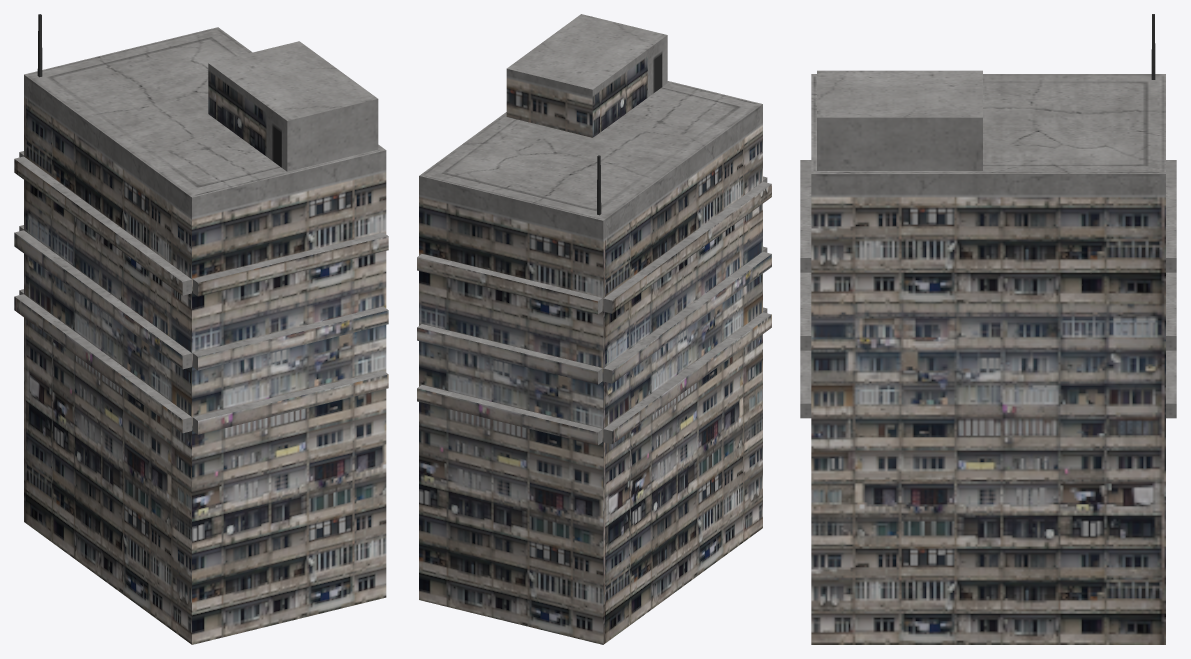
File: HH_Building_Background_01.fbx
3 views of the same model, side by side, from view 1: azimuth 30°, elevation 25°; view 2: azimuth 150°, elevation 25°; view 3: azimuth 270°, elevation 25° (orthographic). The views are drawn at different scales.
Visible parts, largest first — view 1: HH_Building_Background_01; view 2: HH_Building_Background_01; view 3: HH_Building_Background_01.
Part boxes in pixels (box(x1,y1,x2,y2)): HH_Building_Background_01: box(14, 14, 388, 644); HH_Building_Background_01: box(417, 14, 771, 644); HH_Building_Background_01: box(800, 14, 1176, 644).
Bounding box in the file's own units: 134 × 320 × 204.
